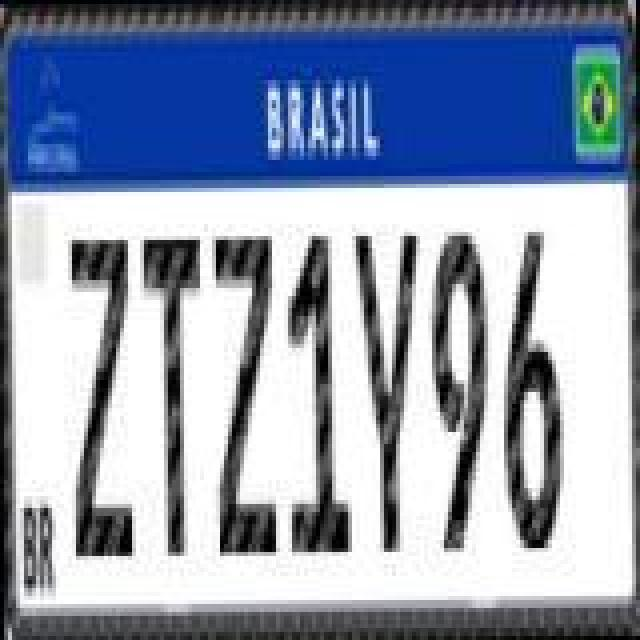1: (284, 226, 356, 558)
6: (502, 226, 570, 558)
9: (426, 224, 494, 560)
T: (142, 234, 210, 566)
Y: (354, 228, 430, 556)
Z: (64, 234, 136, 566), (214, 230, 282, 562)
